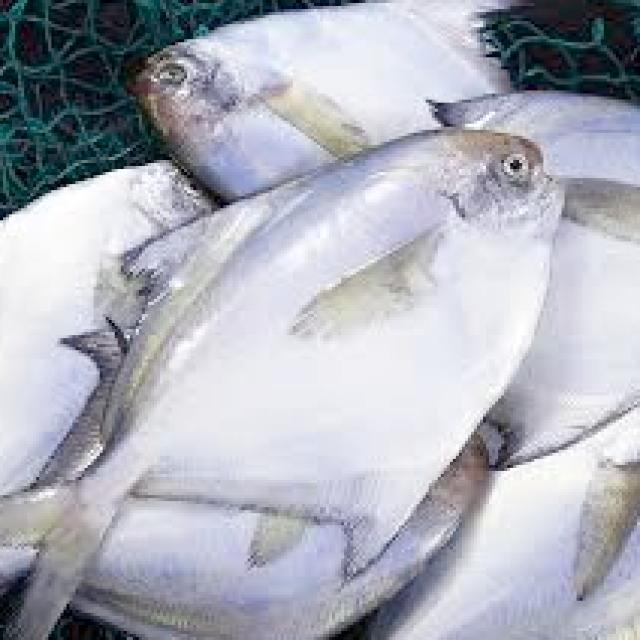pomfred: (0, 128, 567, 640)
